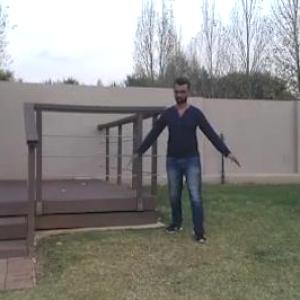land: (126, 67, 239, 260)
